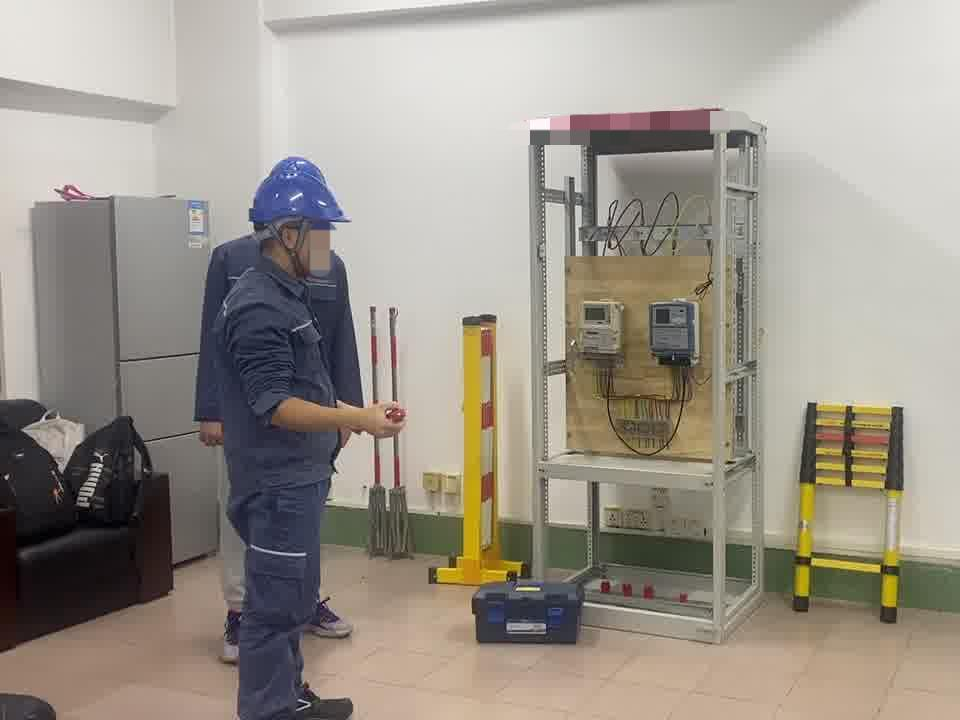halt: (250, 157, 352, 281)
inear: (270, 219, 315, 271)
